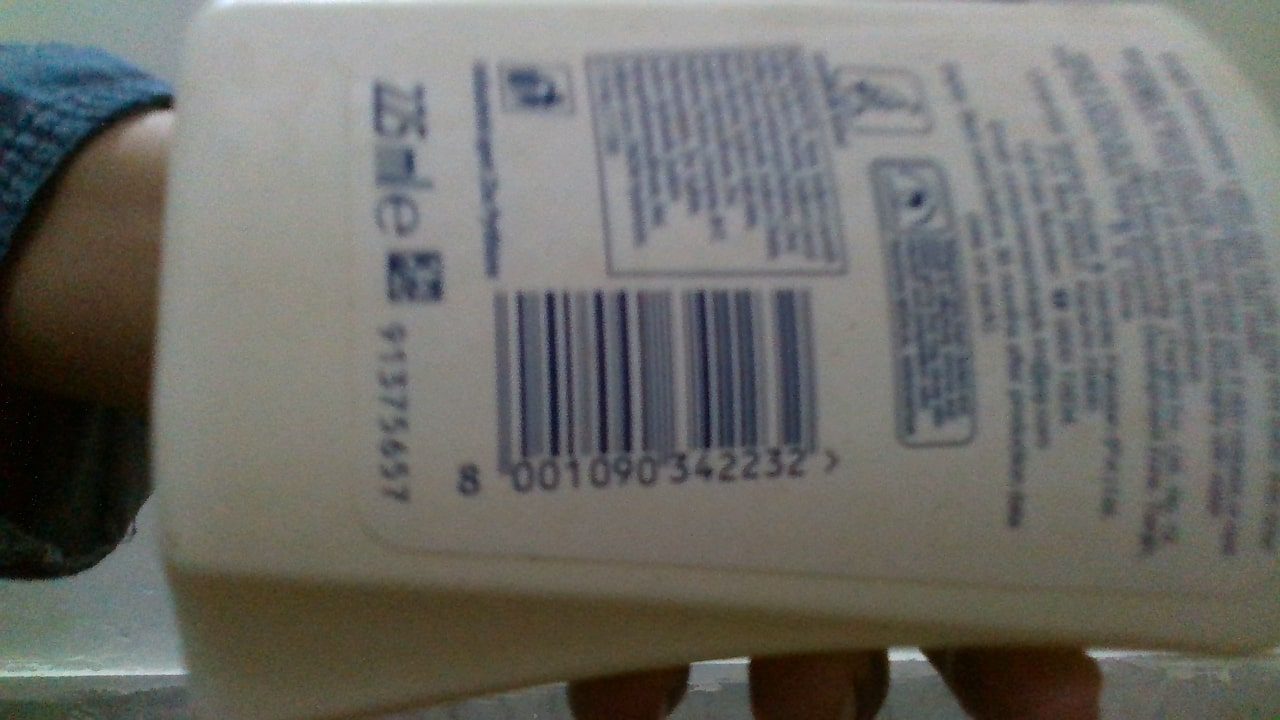Barcode: (490, 287, 821, 482)
